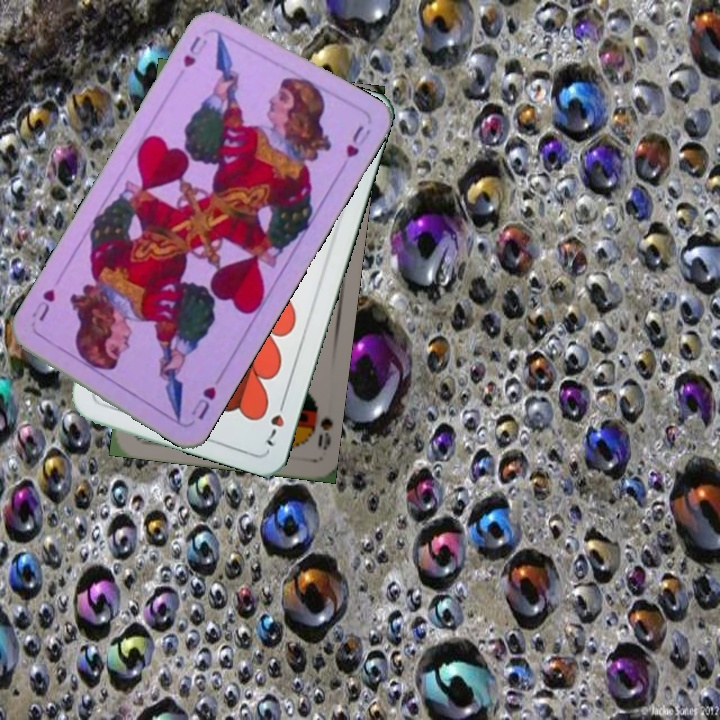H7: (262, 393, 289, 449)
HU: (186, 382, 219, 423), (179, 31, 211, 70)
SO: (305, 396, 335, 453)
